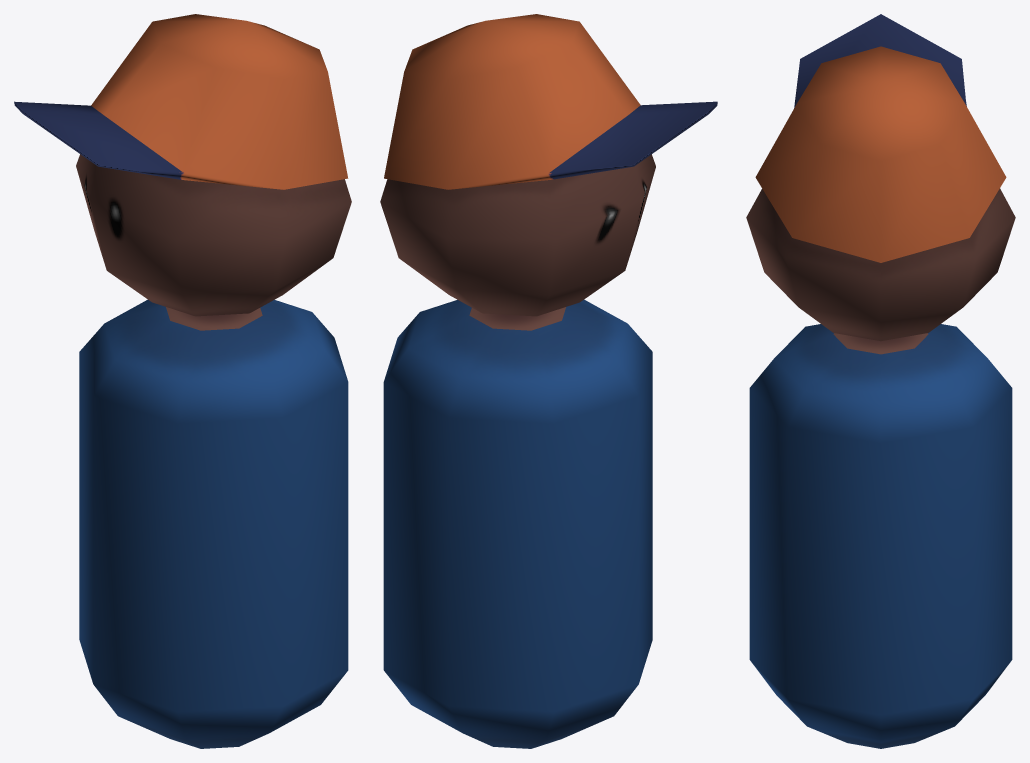
Rendered from boneco02.dae.
The picture shows the model from 3 angles, left to right: view 1: azimuth 30°, elevation 25°; view 2: azimuth 150°, elevation 25°; view 3: azimuth 270°, elevation 25°; orthographic projection. The views are drawn at different scales.
Parts seen in each view (by area): view 1: pCylinder7; view 2: pCylinder7; view 3: pCylinder7.
Boxes of the visible parts, box(x1,y1,x2,y2) form: pCylinder7: box(14, 14, 351, 748); pCylinder7: box(380, 14, 717, 748); pCylinder7: box(746, 14, 1015, 748).
Bounding box in the file's own units: 1.91 × 4.06 × 1.5.
